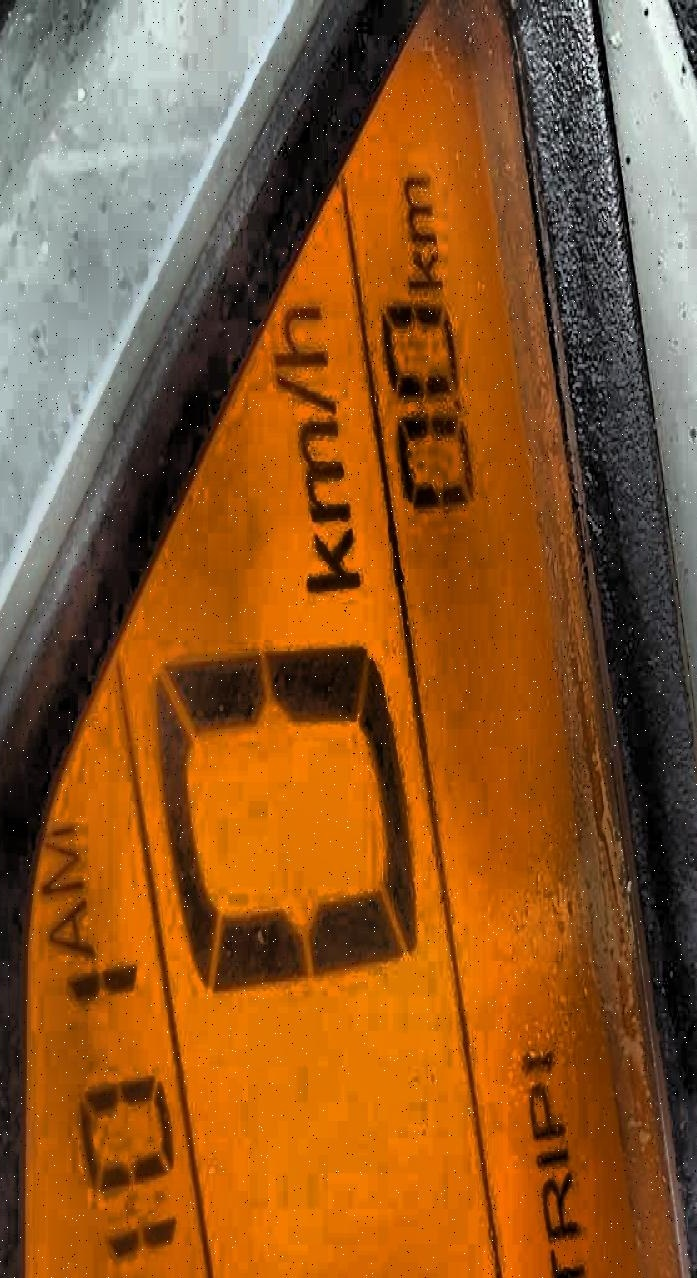-: (450, 393, 461, 408)
0: (145, 640, 422, 1002), (74, 1071, 174, 1195), (387, 408, 477, 515), (377, 295, 460, 393)
1: (104, 1209, 176, 1267), (64, 964, 138, 1004), (513, 1035, 563, 1077)
X: (294, 417, 350, 522), (302, 524, 363, 591), (269, 297, 328, 366), (35, 817, 84, 895), (267, 366, 338, 415), (45, 895, 94, 957), (400, 168, 437, 244), (540, 1169, 579, 1238), (528, 1082, 564, 1140), (405, 246, 444, 291), (547, 1244, 587, 1277), (534, 1144, 569, 1166)
